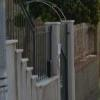stairs: (8, 40, 41, 87)
